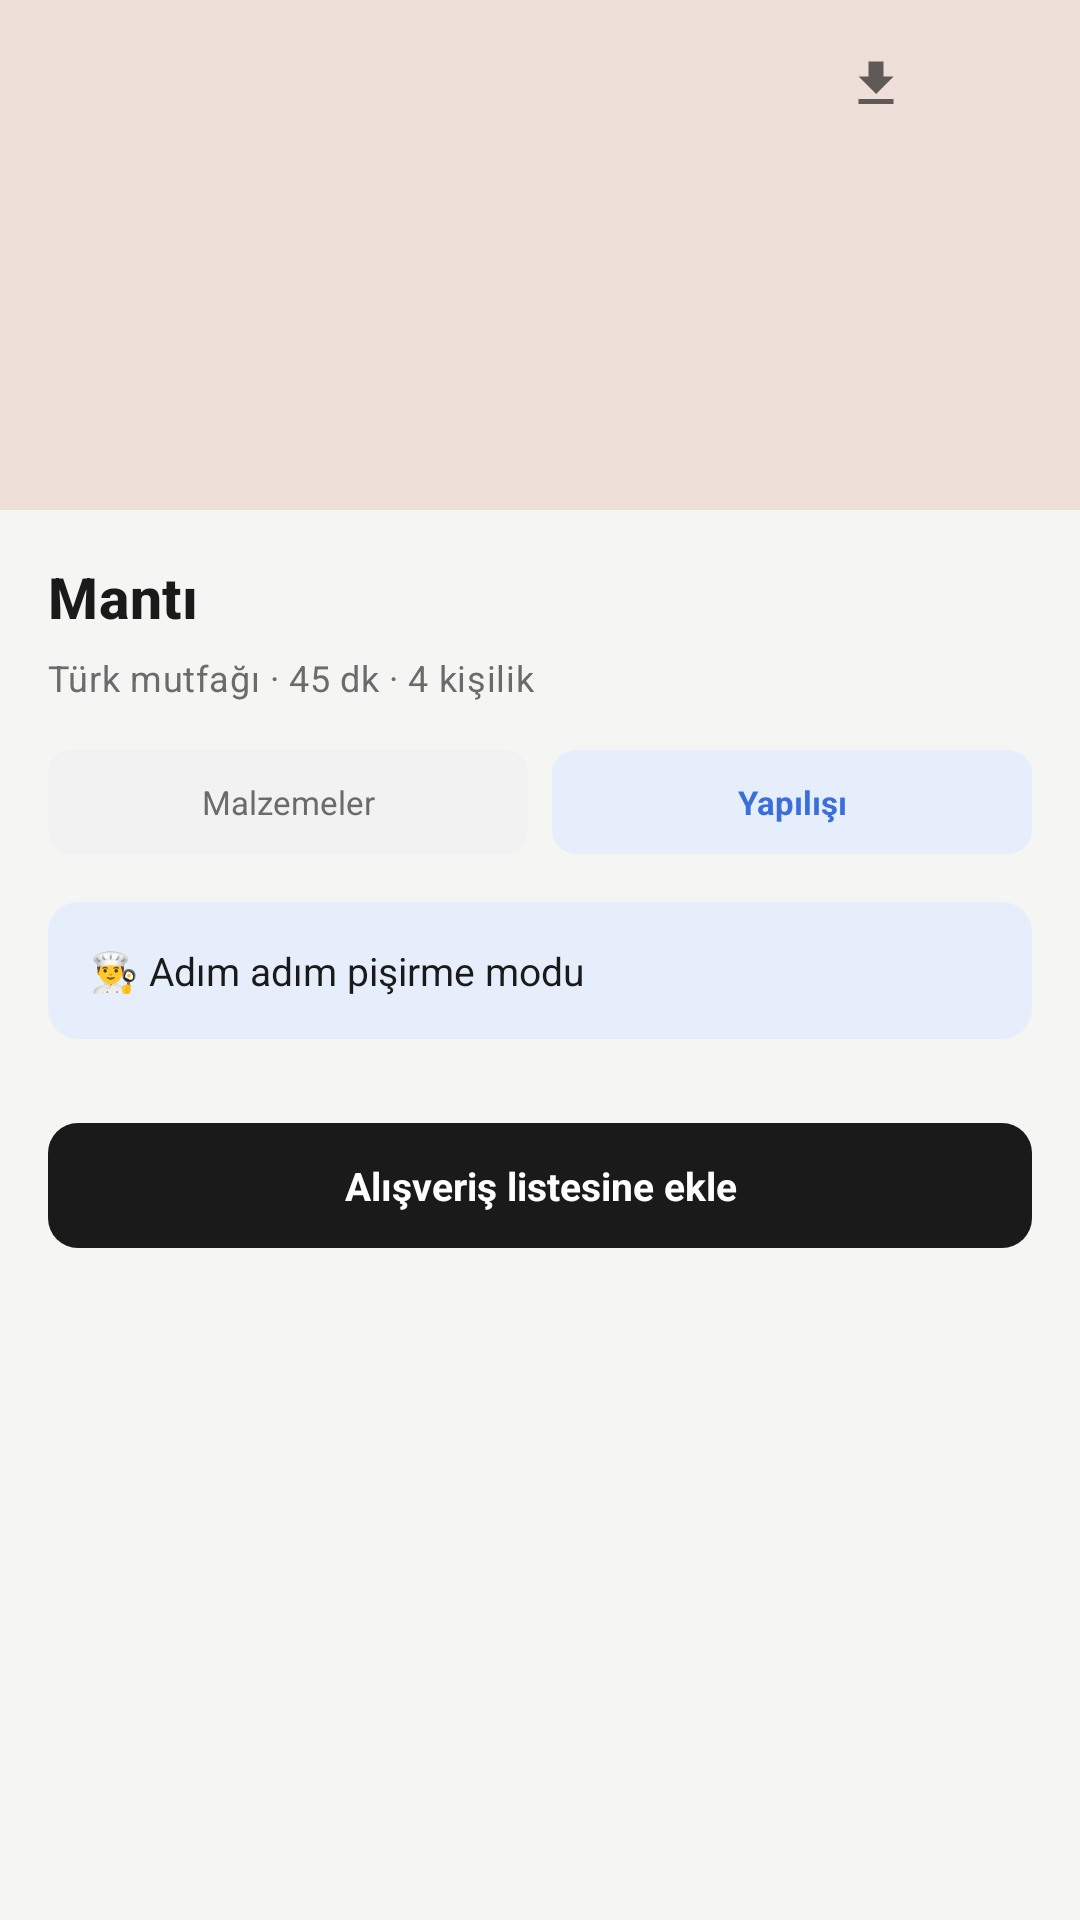

Where icons sit on this 1080×1920 app screen, as (x1, y1, x2, y2):
download: (858, 61, 894, 104)
